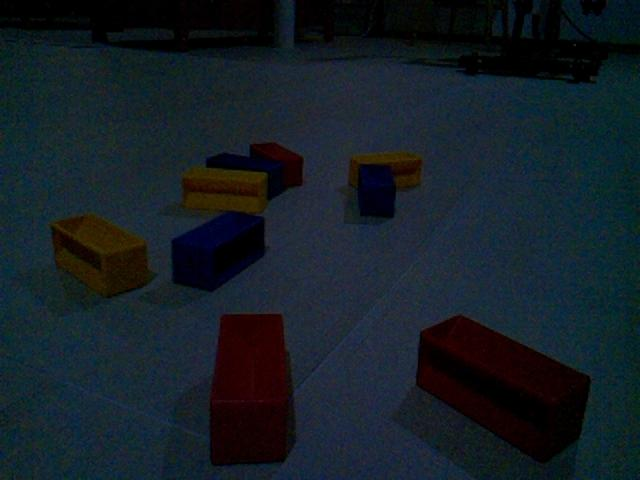blue: (170, 209, 268, 292), (205, 150, 286, 200), (356, 162, 398, 219)
red: (414, 311, 593, 463), (207, 311, 296, 466), (249, 139, 305, 188)
yellow: (49, 211, 154, 298), (181, 164, 270, 214), (348, 151, 424, 190)
